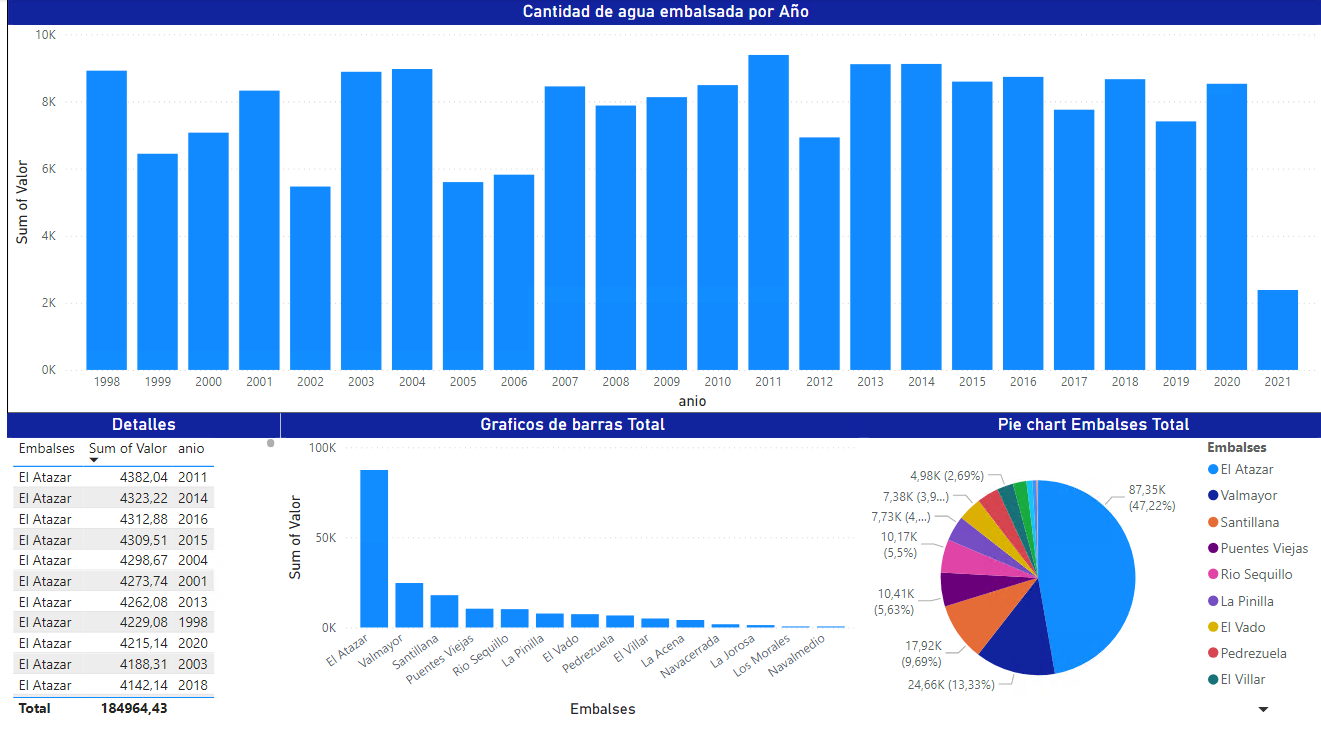

What the dashboard file says about the page in this screenshot:
{"tool":"powerbi","page":{"name":"Página 1","canvas":[1280,720],"ordinal":0},"visuals":[{"type":"columnChart","title":"Cantidad de agua embalsada por Año","fields":{"Category":["nuevo_dataset1234 - copia.anio"],"Y":["Sum(nuevo_dataset1234 - copia.Valor)"]},"box":[10,0,1270,400],"z":0},{"type":"tableEx","title":"Detalles","fields":{"Values":["nuevo_dataset1234 - copia.Embalses","Sum(nuevo_dataset1234 - copia.Valor)","nuevo_dataset1234 - copia.anio"]},"box":[10,400,264.2,299.2],"z":1000},{"type":"columnChart","title":"Graficos de barras Total","fields":{"Category":["nuevo_dataset1234 - copia.Embalses"],"Y":["Sum(nuevo_dataset1234 - copia.Valor)"]},"box":[274,400,563,299],"z":2000},{"type":"pieChart","title":"Pie chart Embalses Total","fields":{"Category":["nuevo_dataset1234 - copia.Embalses"],"Y":["Sum(nuevo_dataset1234 - copia.Valor)"]},"box":[837,400,443,299],"z":3000}]}

Visuals, with their boxes in screenshot pixels (x1, y1, x2, y2), scaled from the page's 1280x720 canvas onto the 1321x742 screenshot:
"Cantidad de agua embalsada por Año" columnChart: [x1=10, y1=0, x2=1320, y2=412]
"Detalles" tableEx: [x1=10, y1=412, x2=283, y2=721]
"Graficos de barras Total" columnChart: [x1=283, y1=412, x2=864, y2=720]
"Pie chart Embalses Total" pieChart: [x1=864, y1=412, x2=1320, y2=720]
